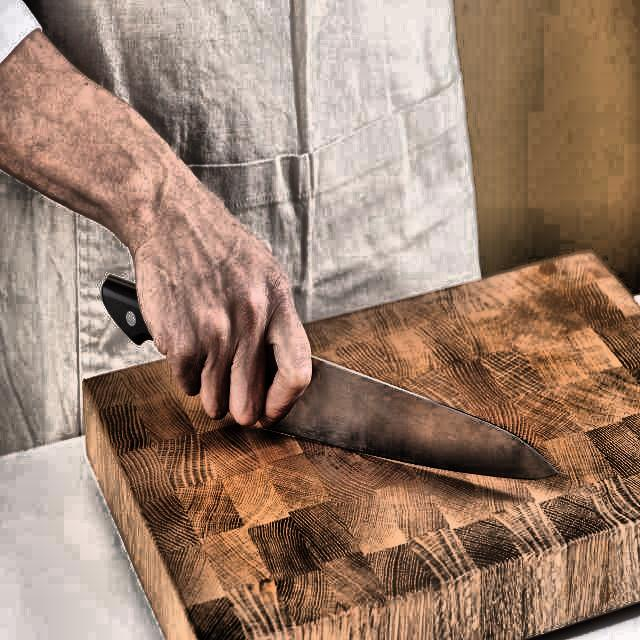knife: (102, 274, 560, 493)
